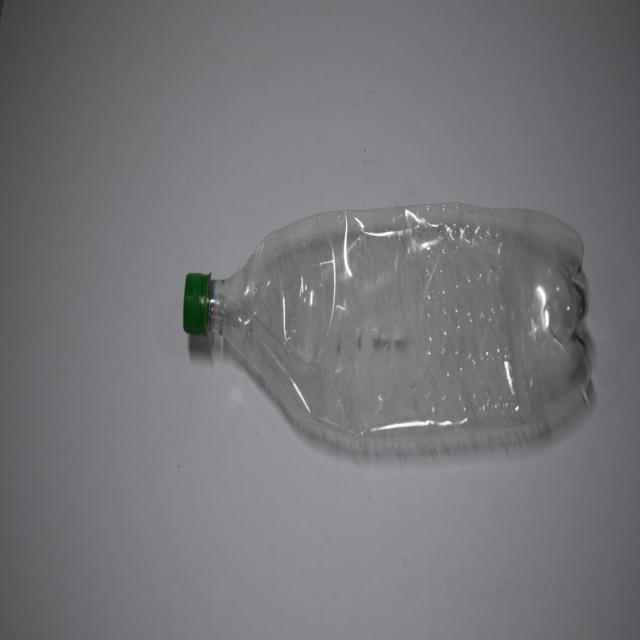empty: (183, 203, 591, 457)
